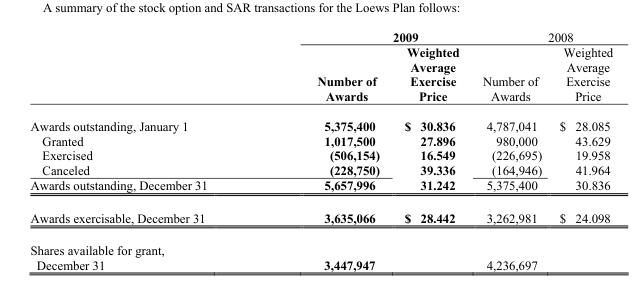table: (29, 29, 612, 271)
table column: (29, 29, 261, 271), (261, 29, 391, 271), (391, 29, 470, 271), (470, 29, 549, 271), (549, 29, 612, 271)
table column header: (29, 29, 612, 110)
table row: (29, 43, 612, 110), (29, 233, 612, 271), (29, 201, 612, 233), (29, 177, 612, 201), (29, 110, 612, 133), (29, 147, 612, 162), (29, 162, 612, 177), (29, 29, 612, 43), (29, 133, 612, 147)
table spanning cell: (261, 29, 470, 43), (470, 29, 612, 43)
